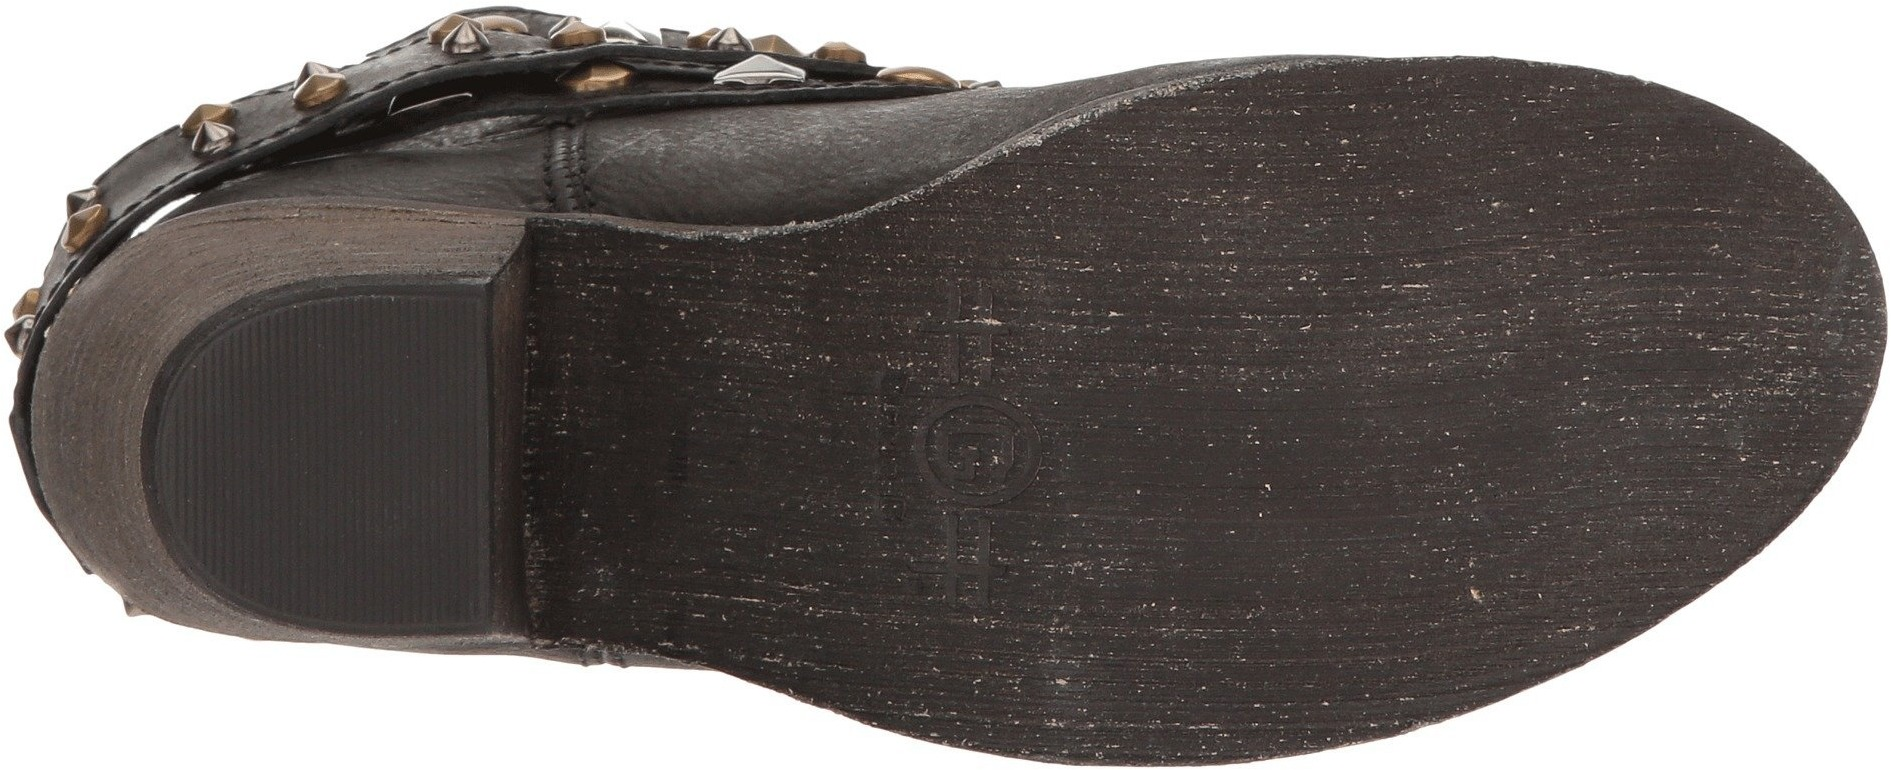line: (230, 364, 425, 559)
other: (989, 59, 1884, 766), (142, 282, 500, 635), (1321, 196, 1612, 504)
